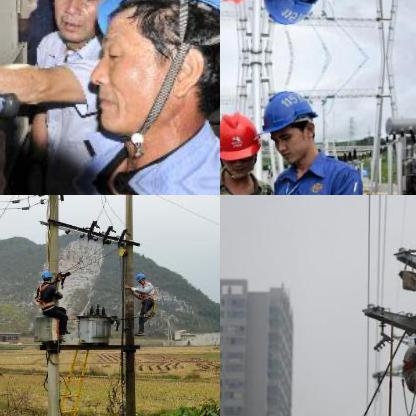Helmet: (73, 0, 219, 155), (40, 0, 143, 57), (258, 81, 322, 163), (220, 105, 260, 184), (257, 0, 323, 33), (220, 0, 260, 9), (132, 270, 150, 286), (36, 268, 52, 282), (411, 330, 415, 351)
